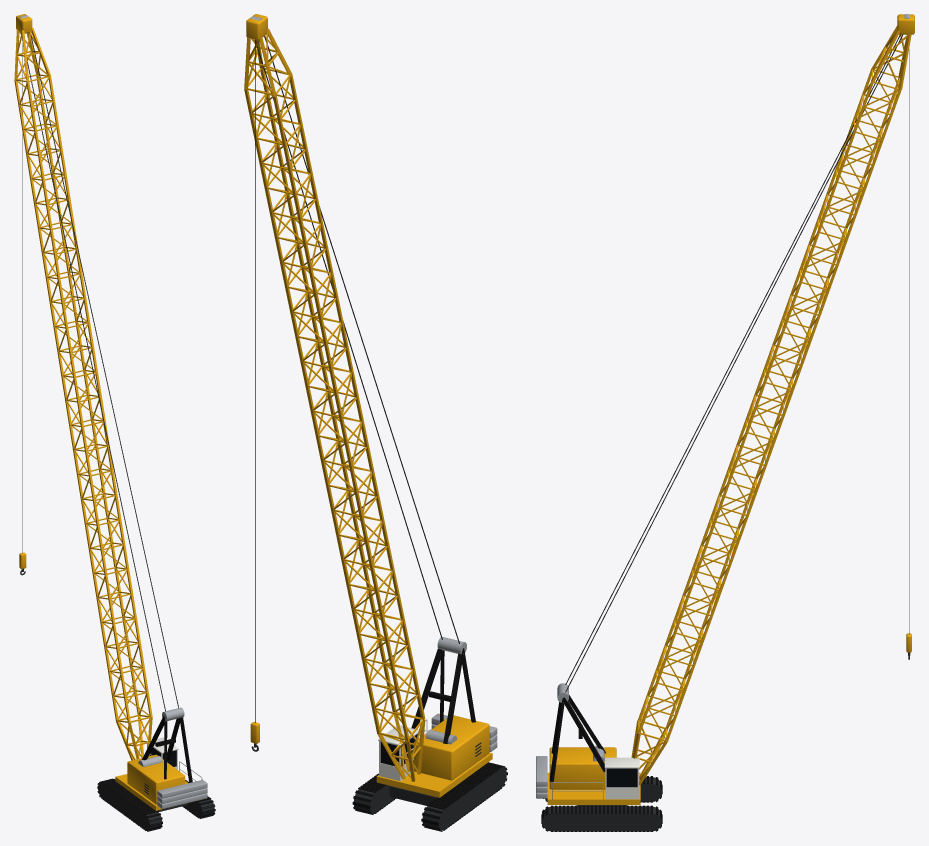
Rendered from plant.lifting.crawler_crane_45.glb.
3 renders of one model, left to right at view 1: azimuth 30°, elevation 25°; view 2: azimuth 150°, elevation 25°; view 3: azimuth 270°, elevation 25°, orthographic. The views are drawn at different scales.
Parts seen in each view (by area): view 1: boom__plant_yellow, boom__steel_dark, upper__plant_yellow, upper__steel_galvanised, tracks__steel_dark, tracks__plastic_black, upper__plastic_black, hook__steel_dark; view 2: boom__plant_yellow, upper__plant_yellow, tracks__steel_dark, tracks__plastic_black, boom__steel_dark, upper__plastic_black, upper__steel_galvanised, hook__steel_dark, upper__paint_white; view 3: boom__plant_yellow, upper__plant_yellow, tracks__steel_dark, boom__steel_dark, upper__plastic_black, tracks__plastic_black, upper__steel_galvanised, upper__paint_white.
Boxes of the visible parts, x1,y1,x2,y2 form: boom__plant_yellow: (14, 14, 152, 760); boom__steel_dark: (20, 32, 178, 711); upper__plant_yellow: (115, 754, 187, 810); upper__steel_galvanised: (138, 707, 207, 809); tracks__steel_dark: (98, 780, 214, 830); tracks__plastic_black: (97, 778, 215, 831); upper__plastic_black: (142, 716, 192, 782); hook__steel_dark: (20, 43, 25, 575); boom__plant_yellow: (244, 14, 425, 781); upper__plant_yellow: (376, 715, 492, 797); tracks__steel_dark: (353, 764, 506, 830); tracks__plastic_black: (352, 762, 507, 831); boom__steel_dark: (254, 36, 459, 643); upper__plastic_black: (411, 648, 475, 743); upper__steel_galvanised: (424, 636, 497, 751); hook__steel_dark: (251, 39, 258, 751); upper__paint_white: (378, 725, 419, 781); boom__plant_yellow: (631, 14, 914, 785); upper__plant_yellow: (547, 747, 640, 804); tracks__steel_dark: (542, 777, 661, 831); boom__steel_dark: (565, 34, 903, 692); upper__plastic_black: (549, 695, 605, 781); tracks__plastic_black: (541, 776, 662, 831); upper__steel_galvanised: (536, 683, 604, 799); upper__paint_white: (604, 757, 639, 799).
Size of the model in its own units: 4.5 by 45.42 by 19.55.
